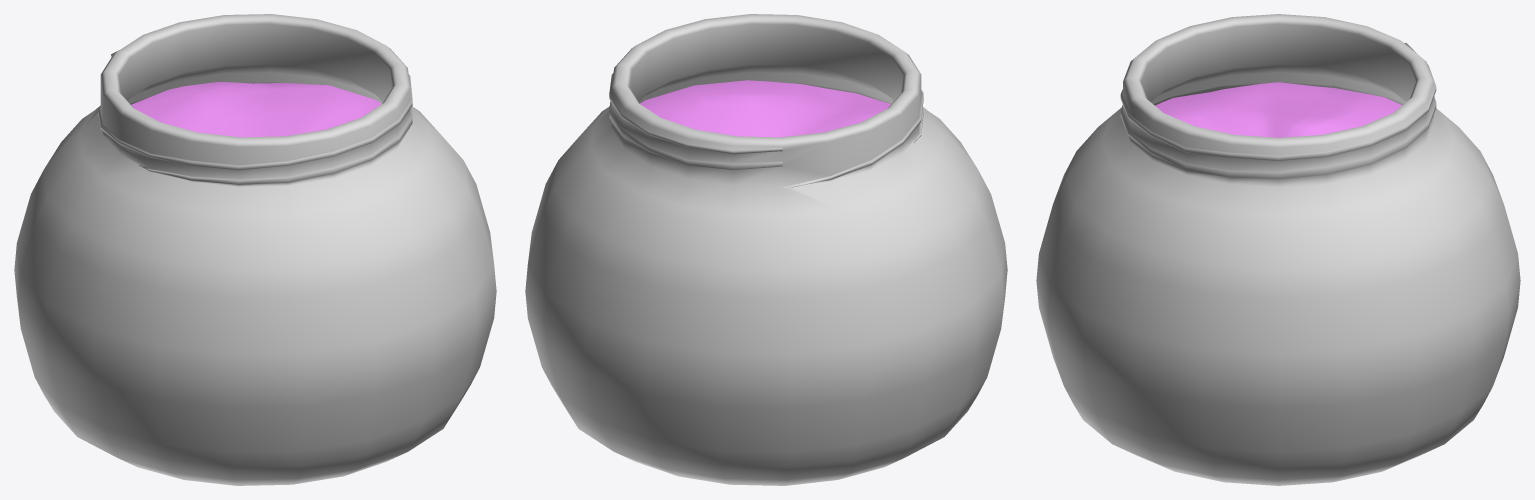
Rendered from candy_jar.glb.
3 views of the same model, side by side, from view 1: azimuth 30°, elevation 25°; view 2: azimuth 150°, elevation 25°; view 3: azimuth 270°, elevation 25° (orthographic).
Parts seen in each view (by area): view 1: polySurface2; view 2: polySurface2; view 3: polySurface2.
Part boxes in pixels (x1=…): polySurface2: x1=14, y1=14, x2=496, y2=485; polySurface2: x1=525, y1=14, x2=1007, y2=485; polySurface2: x1=1036, y1=14, x2=1520, y2=485.
Bounding box in the file's own units: 3.14 × 2.39 × 3.14.
